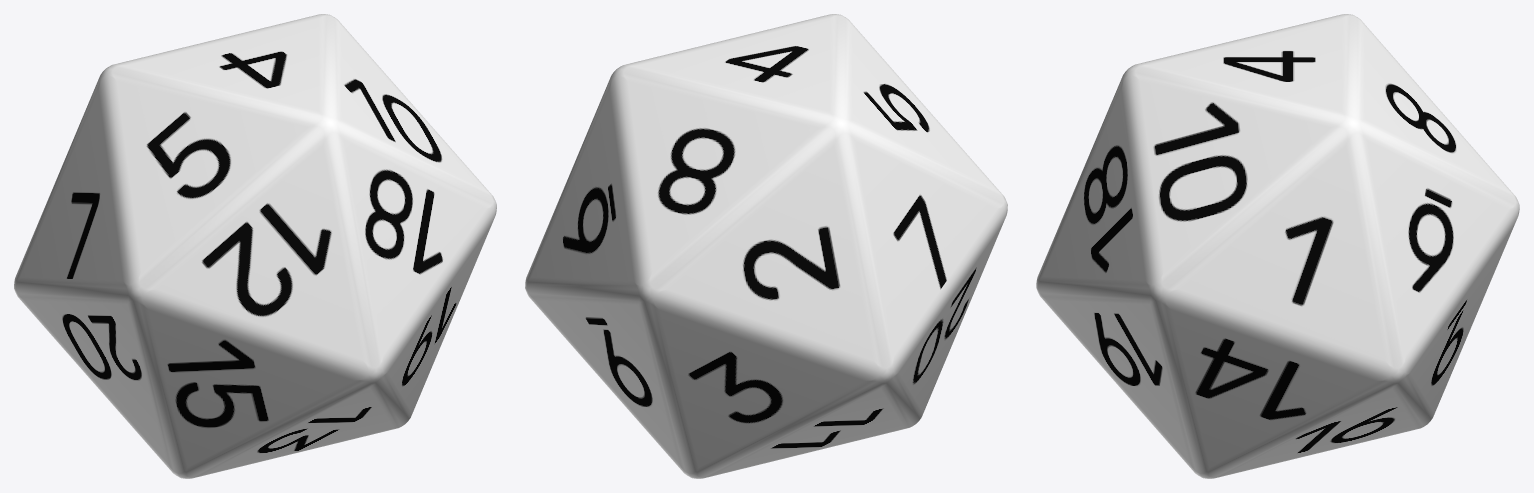
The model's file is D20_Vol.FBX.
3 renders of one model, left to right at view 1: azimuth 30°, elevation 25°; view 2: azimuth 150°, elevation 25°; view 3: azimuth 270°, elevation 25°, orthographic.
Visible parts, largest first — view 1: Dado20Numb; view 2: Dado20Numb; view 3: Dado20Numb.
Boxes of the visible parts, x1,y1,x2,y2 form: Dado20Numb: (14,14,496,478); Dado20Numb: (525,14,1007,478); Dado20Numb: (1036,14,1519,478).
Size of the model in its own units: 240 by 227 by 273.
